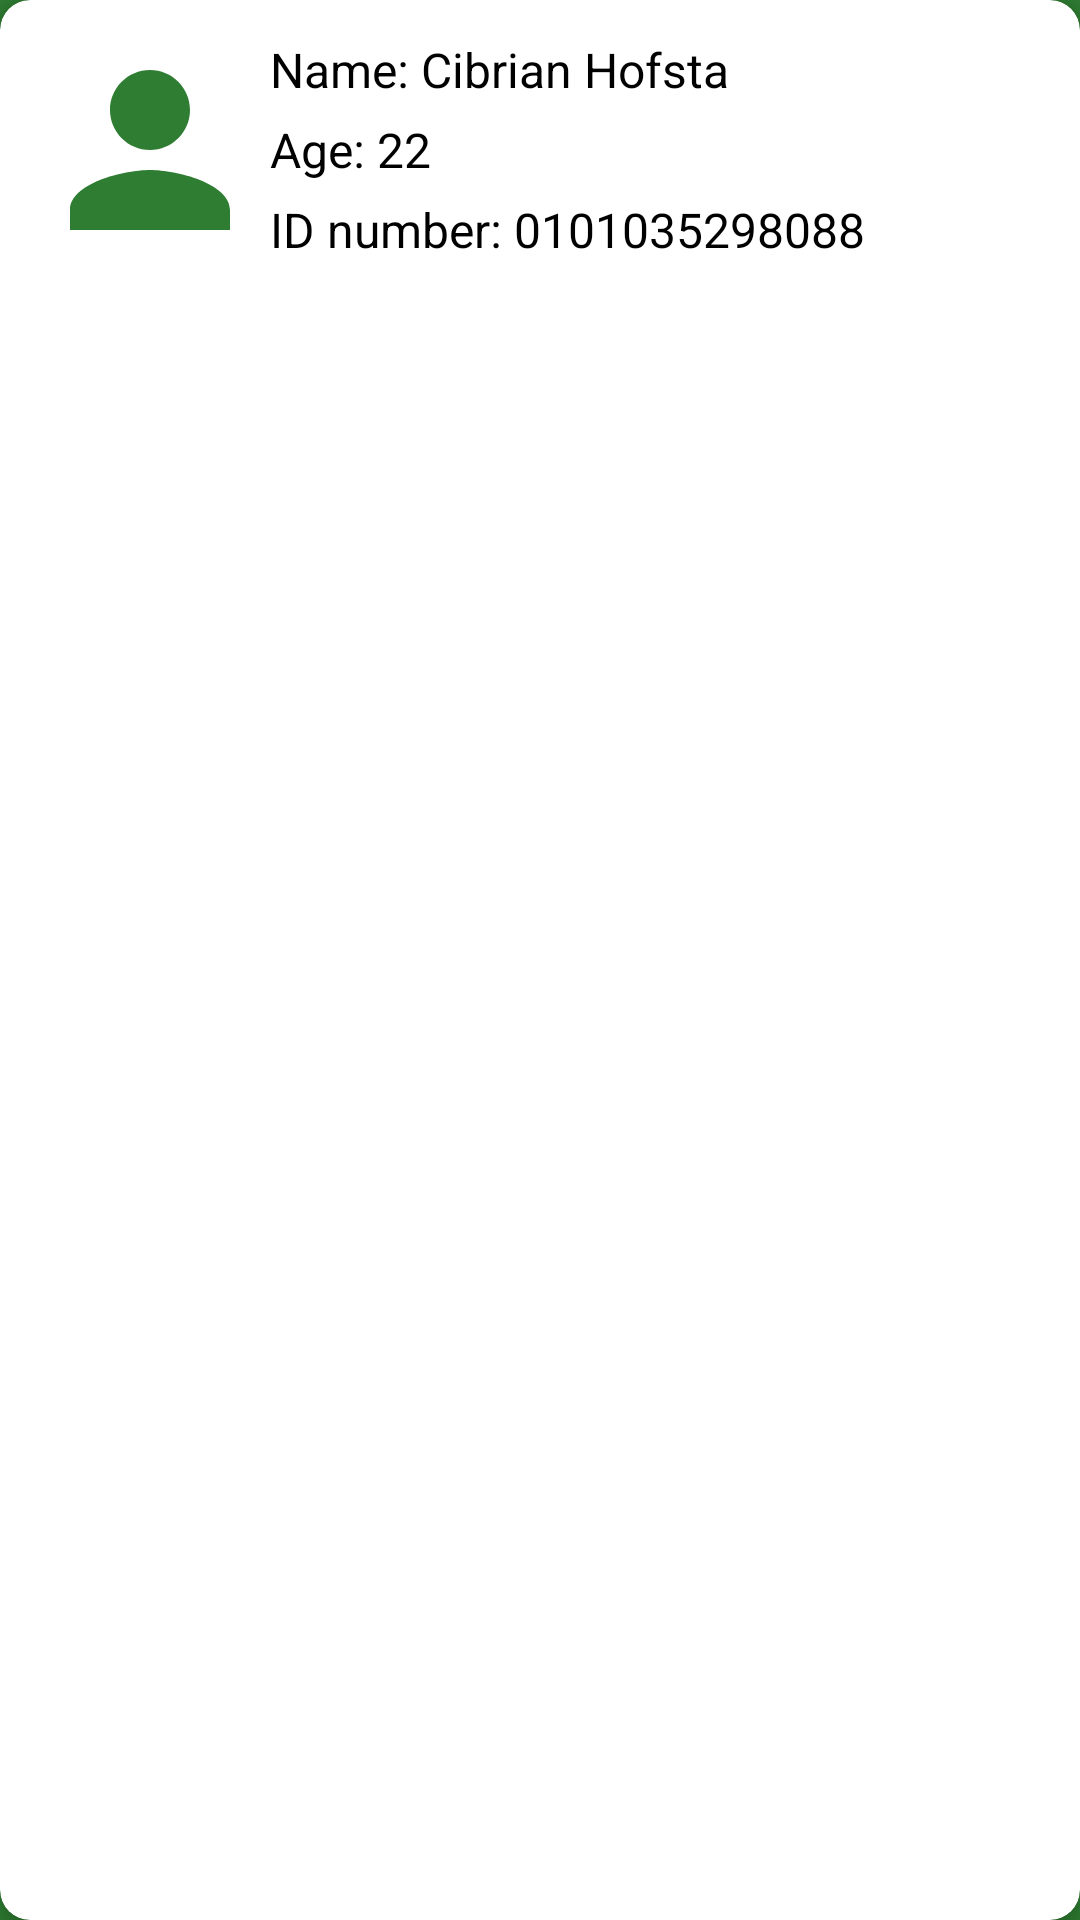

Where icons sit on this 1080x1920 app screen, as (x1, y1, x2, y2):
person: (70, 70, 230, 230)
